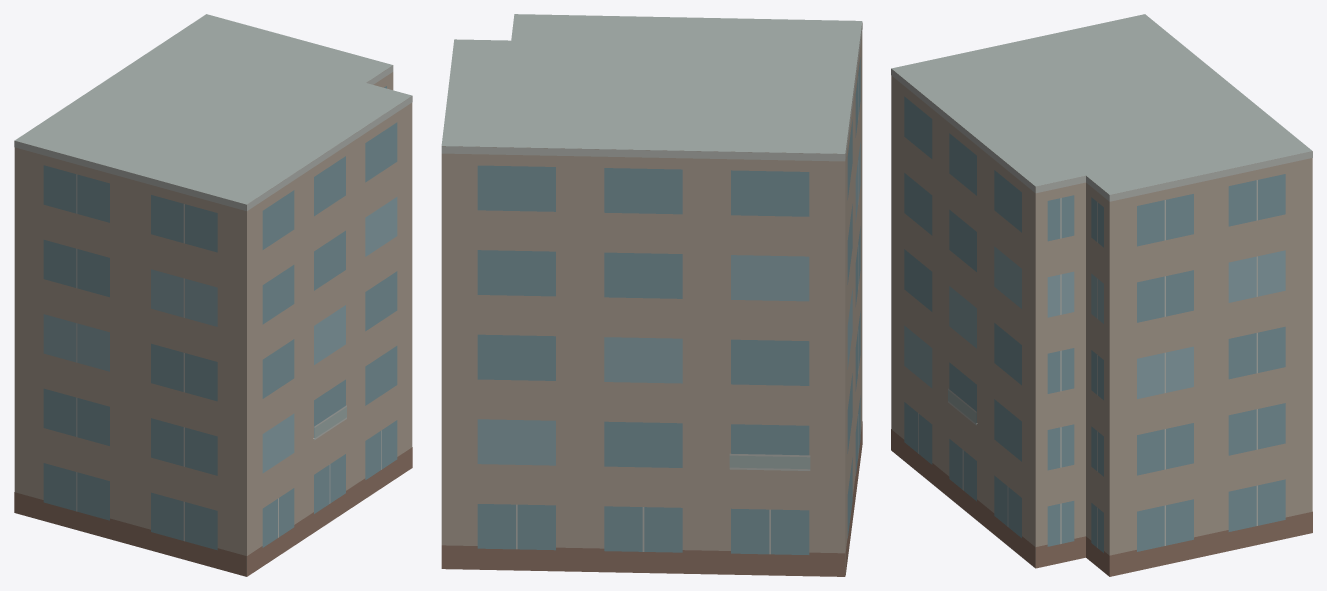
Rendered from survey-upis-32837191.glb.
3 views of the same model, side by side, from view 1: azimuth 30°, elevation 25°; view 2: azimuth 150°, elevation 25°; view 3: azimuth 270°, elevation 25° (orthographic). The views are drawn at different scales.
Parts seen in each view (by area): view 1: survey-upis-32837191.tmp; view 2: survey-upis-32837191.tmp; view 3: survey-upis-32837191.tmp.
Part boxes in pixels (box(x1,y1,x2,y2)): survey-upis-32837191.tmp: box(14, 14, 412, 576); survey-upis-32837191.tmp: box(441, 14, 862, 576); survey-upis-32837191.tmp: box(891, 14, 1312, 576).
Bounding box in the file's own units: 13.93 × 13.7 × 13.72.
